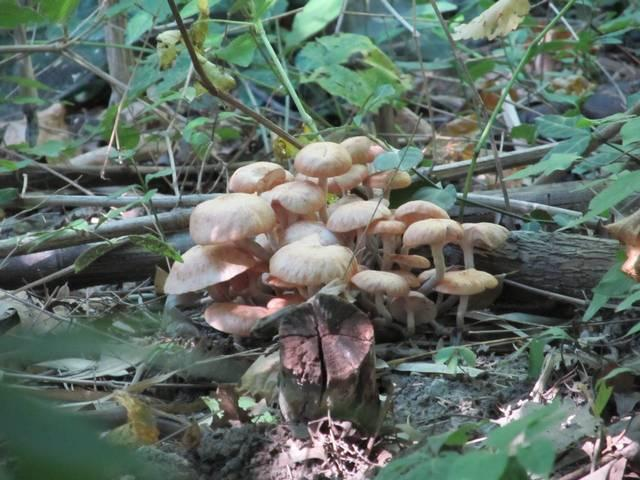Edible Mushroom: (163, 134, 509, 344)
